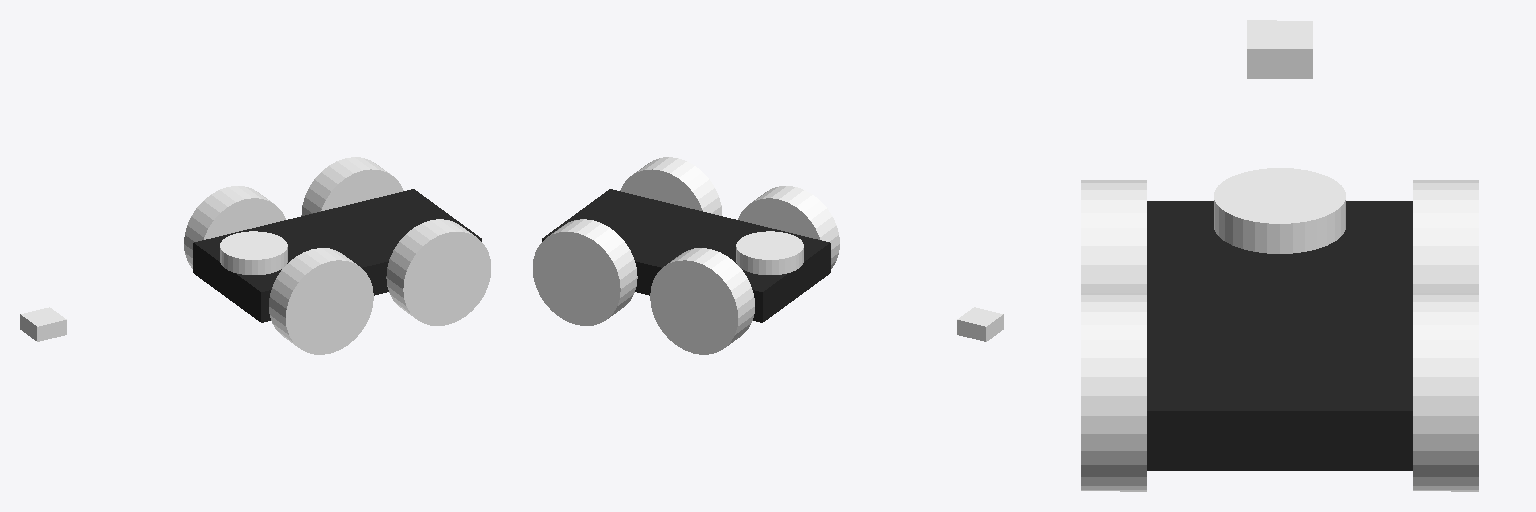
The robot description file, URDF, robot "three_wheeled_robot":
<?xml version="1.0" ?>
<!-- Define the robot model and name it "three_wheeled_robot" -->
<robot name="three_wheeled_robot">
    <link name="base_footprint"/>

    <!-- Define the base link of the robot -->
    <link name="base">
        <!-- Visual properties of the base link -->
        <visual>
            <geometry>
                <!-- The base is represented as a box with the specified dimensions -->
                <box size="0.75 0.4 0.1"/>
            </geometry>
            <material name="gray">
                <!-- Set the color of the base to gray -->
                <color rgba=".2 .2 .2 1" />
            </material>
        </visual>
        <!-- Inertial properties of the base link -->
        <inertial>
            <!-- Mass of the base link -->
            <mass value="1" />
            <!-- Inertia tensor of the base link -->
            <inertia ixx="0.01" ixy="0.0" ixz="0" iyy="0.01" iyz="0" izz="0.01" />
        </inertial>

        
        <!-- Collision properties of the base link -->
        <collision>
            <geometry>
                <!-- The collision shape is the same as the visual shape -->
                <box size="0.75 0.4 0.1"/>
            </geometry>
        </collision>
    </link>

     
    <!-- Define the right wheel link of the robot -->
    <link name="wheel_back_right_link">
        <!-- Inertial properties of the right wheel -->
        <inertial>
            <!-- Mass of the right wheel -->
            <mass value="2" />
            <!-- Inertia tensor of the right wheel -->
            <inertia ixx="0.01" ixy="0.0" ixz="0" iyy="0.01" iyz="0" izz="0.01" />
        </inertial>
     

        <!-- Visual properties of the right wheel -->
        <visual>
            <geometry>
                <!-- The right wheel is represented as a cylinder with the specified radius and length -->
                <cylinder radius="0.15" length="0.1"/>
            </geometry>
            <material name="white">
                <!-- Set the color of the right wheel to white -->
                <color rgba="1 1 1 1"/>
            </material>
        </visual>
        <!-- Collision properties of the right wheel -->
        <collision>
            <geometry>
                <!-- The collision shape is the same as the visual shape -->
                <cylinder radius="0.15" length="0.1"/>
            </geometry>
            <contact_coefficients mu="1" kp="1e+13" kd="1.0"/>
        </collision>
    </link>

    <joint name="footprint_joint" type="fixed">
        <!-- Origin of the joint in relation to the parent link (base) -->
        <origin xyz="0.0 0.0 0.0" rpy="0.0 0.0 0.0"/>
        <!-- The parent link of this joint -->
        <parent link="base_footprint"/>
        <!-- The child link of this joint -->
        <child link="base"/>
        <!-- The axis of rotation for the joint -->
        <axis xyz="0.0 0.0 1.0"/>
    </joint>
       
    <!-- Define the joint for the right wheel -->
    <joint name="wheel_back_right_joint" type="continuous">
        <!-- Origin of the joint in relation to the parent link (base) -->
        <origin xyz="0.2 0.25 0.0" rpy="1.57 0.0 0.0"/>
        <!-- The parent link of this joint -->
        <parent link="base"/>
        <!-- The child link of this joint -->
        <child link="wheel_back_right_link"/>
        <!-- The axis of rotation for the joint -->
        <axis xyz="0.0 0.0 1.0"/>
    </joint>

    <!-- Define the left wheel link of the robot -->
    <link name="wheel_back_left_link">
        <!-- Inertial properties of the left wheel -->
        <inertial>
            <!-- Mass of the left wheel -->
            <mass value="2" />
            <!-- Inertia tensor of the left wheel -->
            <inertia ixx="0.01" ixy="0.0" ixz="0" iyy="0.01" iyz="0" izz="0.01" />
        </inertial>
        <!-- Visual properties of the left wheel -->
        <visual>
            <geometry>
                <!-- The left wheel is represented as a cylinder with the specified radius and length -->
                <cylinder radius="0.15" length="0.1"/>
            </geometry>
            <material name="white">
                <!-- Set the color of the left wheel to white -->
                <color rgba="1 1 1 1"/>
            </material>
        </visual>
        <!-- Collision properties of the left wheel -->
        <collision>
            <geometry>
                <!-- The collision shape is the same as the visual shape -->
                <cylinder radius="0.15" length="0.1"/>
            </geometry>
            <contact_coefficients mu="1" kp="1e+13" kd="1.0"/>
        </collision>
    </link>

    <!-- Define the joint for the left wheel -->
    <joint name="wheel_back_left_joint" type="continuous">
        <!-- Origin of the joint in relation to the parent link (base) -->
        <origin xyz="0.2 -0.25 0.0" rpy="1.57 0.0 0.0"/>
        <!-- The parent link of this joint -->
        <parent link="base"/>
        <!-- The child link of this joint -->
        <child link="wheel_back_left_link"/>
        <!-- The axis of rotation for the joint -->
        <axis xyz="0.0 0.0 1.0"/>
    </joint>

    <link name="wheel_front_right_link">
        <!-- Inertial properties of the right wheel -->
        <inertial>
            <!-- Mass of the right wheel -->
            <mass value="2" />
            <!-- Inertia tensor of the right wheel -->
            <inertia ixx="0.01" ixy="0.0" ixz="0" iyy="0.01" iyz="0" izz="0.01" />
        </inertial>
     

        <!-- Visual properties of the right wheel -->
        <visual>
            <geometry>
                <!-- The right wheel is represented as a cylinder with the specified radius and length -->
                <cylinder radius="0.15" length="0.1"/>
            </geometry>
            <material name="white">
                <!-- Set the color of the right wheel to white -->
                <color rgba="1 1 1 1"/>
            </material>
        </visual>
        <!-- Collision properties of the right wheel -->
        <collision>
            <geometry>
                <!-- The collision shape is the same as the visual shape -->
                <cylinder radius="0.15" length="0.1"/>
            </geometry>
            <contact_coefficients mu="1" kp="1e+13" kd="1.0"/>
        </collision>
    </link>
    <joint name="wheel_front_right_joint" type="continuous">
        <!-- Origin of the joint in relation to the parent link (base) -->
        <origin xyz="-0.2 0.25 0.0" rpy="1.57 0.0 0.0"/>
        <!-- The parent link of this joint -->
        <parent link="base"/>
        <!-- The child link of this joint -->
        <child link="wheel_front_right_link"/>
        <!-- The axis of rotation for the joint -->
        <axis xyz="0.0 0.0 1.0"/>
    </joint>

    <link name="wheel_front_left_link">
        <!-- Inertial properties of the left wheel -->
        <inertial>
            <!-- Mass of the left wheel -->
            <mass value="2" />
            <!-- Inertia tensor of the left wheel -->
            <inertia ixx="0.01" ixy="0.0" ixz="0" iyy="0.01" iyz="0" izz="0.01" />
        </inertial>
        <!-- Visual properties of the left wheel -->
        <visual>
            <geometry>
                <!-- The left wheel is represented as a cylinder with the specified radius and length -->
                <cylinder radius="0.15" length="0.1"/>
            </geometry>
            <material name="white">
                <!-- Set the color of the left wheel to white -->
                <color rgba="1 1 1 1"/>
            </material>
        </visual>
        <!-- Collision properties of the left wheel -->
        <collision>
            <geometry>
                <!-- The collision shape is the same as the visual shape -->
                <cylinder radius="0.15" length="0.1"/>
            </geometry>
            <contact_coefficients mu="1" kp="1e+13" kd="1.0"/>
        </collision>
    </link>

    <joint name="wheel_front_left_joint" type="continuous">
        <!-- Origin of the joint in relation to the parent link (base) -->
        <origin xyz="-0.2 -0.25 0.0" rpy="1.57 0.0 0.0"/>
        <!-- The parent link of this joint -->
        <parent link="base"/>
        <!-- The child link of this joint -->
        <child link="wheel_front_left_link"/>
        <!-- The axis of rotation for the joint -->
        <axis xyz="0.0 0.0 1.0"/>
    </joint>

 
    <!-- Define the camera link of the robot -->
    <link name="camera">
        <!-- Inertial properties of the camera -->
        <inertial>
            <!-- Mass of the camera -->
            <mass value="0.1" />
            <!-- Inertia tensor of the camera -->
            <inertia ixx="0.01" ixy="0.0" ixz="0" iyy="0.01" iyz="0" izz="0.01" />
        </inertial>
        <!-- Visual properties of the camera -->
        <visual>
            <geometry>
                <!-- The camera is represented as a box with the specified dimensions -->
                <box size="0.1 0.1 0.05"/>
            </geometry>
            <material name="white">
                <!-- Set the color of the camera to white -->
                <color rgba="1 1 1 1"/>
            </material>
        </visual>
        <!-- Collision properties of the camera -->
        <collision>
            <geometry>
                <!-- The collision shape is the same as the visual shape -->
                <box size="0.1 0.1 0.05"/>
            </geometry>
        </collision>
    </link>

    <!-- Define the joint for the camera -->
    <joint name="camera_joint" type="fixed">
        <!-- Origin of the joint in relation to the parent link (base) -->
        <origin xyz="-1.0 0 0.01" rpy="0 0.0 3.14"/>
        <!-- The parent link of this joint -->
        <parent link="base"/>
        <!-- The child link of this joint -->
        <child link="camera"/>
        <!-- The axis of rotation for the joint -->
        <axis xyz="0.0 0.0 1.0"/>
    </joint>

    <!-- Define the lidar link of the robot -->
    <link name="lidar">
        <!-- Inertial properties of the lidar -->
        <inertial>
            <!-- Mass of the lidar -->
            <mass value="0.5" />
            <!-- Inertia tensor of the lidar -->
            <inertia ixx="0.01" ixy="0.0" ixz="0" iyy="0.01" iyz="0" izz="0.01" />
        </inertial>
        <!-- Visual properties of the lidar -->
        <visual>
            <geometry>
                <!-- The lidar is represented as a cylinder with the specified radius and length -->
                <cylinder radius="0.1" length="0.05"/>
            </geometry>
            <material name="white">
                <!-- Set the color of the lidar to white -->
                <color rgba="1 1 1 1"/>
            </material>
        </visual>
        <!-- Collision properties of the lidar -->
        <collision>
            <geometry>
                <!-- The collision shape is a box with the specified dimensions -->
                <box size="0.1 0.1 0.1"/>
            </geometry>
        </collision>
    </link>

    <!-- Define the joint for the lidar -->
    <joint name="lidar_joint" type="fixed">
        <!-- Origin of the joint in relation to the parent link (base) -->
        <origin xyz="-0.285 0 0.075" rpy="0 0.0 1.57"/>
        <!-- The parent link of this joint -->
        <parent link="base"/>
        <!-- The child link of this joint -->
        <child link="lidar"/>
        <!-- The axis of rotation for the joint -->
        <axis xyz="0.0 0.0 1.0"/>
    </joint>

    <!-- Define Gazebo-specific properties for the base link -->
    <gazebo reference="base">
        <!-- Set the material of the base link in Gazebo -->
        <material>Gazebo/WhiteGlow</material>
    </gazebo>

    <!-- Define Gazebo-specific properties for the left wheel link -->
    <gazebo reference="wheel_back_left_link">
        <!-- Set the material of the left wheel link in Gazebo -->
        <material>Gazebo/SkyBlue</material>
    </gazebo>

    <!-- Define Gazebo-specific properties for the right wheel link -->
    <gazebo reference="wheel_back_right_link">
        <!-- Set the material of the right wheel link in Gazebo -->
        <material>Gazebo/SkyBlue</material>
    </gazebo>



    <gazebo reference="wheel_front_right_link">
        <!-- Set the material of the right wheel link in Gazebo -->
        <material>Gazebo/SkyBlue</material>
    </gazebo>


    <gazebo reference="wheel_front_left_link">
        <!-- Set the material of the right wheel link in Gazebo -->
        <material>Gazebo/SkyBlue</material>
    </gazebo>

    <!-- Define Gazebo-specific properties for the caster -->
    <gazebo reference="caster">
        <!-- Set the material of the caster in Gazebo -->
        <material>Gazebo/Grey</material>
    </gazebo>

    <!-- Define Gazebo-specific properties for the lidar -->
    <gazebo reference="lidar">
        <!-- Set the material of the lidar in Gazebo -->
        <material>Gazebo/Blue</material>
    </gazebo>

    <!-- Define Gazebo-specific properties for the camera -->
    <gazebo reference="camera">
        <!-- Set the material of the camera in Gazebo -->
        <material>Gazebo/Red</material>
    </gazebo>

    <!-- Define the Gazebo plugin for differential drive control -->
    <gazebo>
        <plugin filename="libgazebo_ros_diff_drive.so" name="gazebo_base_controller">
            <!-- Odometry frame for the plugin -->
            <odometry_frame>odom</odometry_frame>
            <!-- Command topic for velocity commands -->
            <commandTopic>cmd_vel</commandTopic>
            <!-- Publish odometry data -->
            <publish_odom>true</publish_odom>
            <!-- Publish odometry transform -->
            <publish_odom_tf>true</publish_odom_tf>
            <!-- Update rate for the plugin -->
            <update_rate>15.0</update_rate>
            <!-- Left wheel joint name -->
            <left_joint>wheel_left_joint</left_joint>
            <!-- Right wheel joint name -->
            <right_joint>wheel_right_joint</right_joint>
            <!-- Wheel separation distance -->
            <wheel_separation>0.5</wheel_separation>
            <!-- Wheel diameter -->
            <wheel_diameter>0.3</wheel_diameter>
            <!-- Maximum wheel acceleration -->
            <max_wheel_acceleration>0.7</max_wheel_acceleration>
            <!-- Maximum wheel torque -->
            <max_wheel_torque>8</max_wheel_torque>
            <!-- Base frame of the robot -->
            <robotBaseFrame>base</robotBaseFrame>
        </plugin>
    </gazebo>

    <!-- Define the Gazebo plugin for the camera -->
    <gazebo reference="camera">
        <!-- Define the camera sensor -->
        <sensor type="camera" name="camera1">
            <!-- Visualize the camera output in Gazebo -->
            <visualize>true</visualize>
            <!-- Update rate for the camera sensor -->
            <update_rate>30.0</update_rate>
            <camera name="head">
                <!-- Horizontal field of view for the camera -->
                <horizontal_fov>1.3962634</horizontal_fov>
                <image>
                    <!-- Image width in pixels -->
                    <width>800</width>
                    <!-- Image height in pixels -->
                    <height>800</height>
                    <!-- Image format -->
                    <format>R8G8B8</format>
                </image>
                <clip>
                    <!-- Near clipping distance -->
                    <near>0.02</near>
                    <!-- Far clipping distance -->
                    <far>300</far>
                </clip>
            </camera>
            <plugin name="camera_controller" filename="libgazebo_ros_camera.so">
                <!-- Always keep the camera on -->
                <alwaysOn>true</alwaysOn>
                <!-- Update rate for the camera controller -->
                <updateRate>60.0</updateRate>
                <!-- Camera name for the controller -->
                <cameraName>/camera1</cameraName>
                <!-- Image topic name -->
                <imageTopicName>image_raw</imageTopicName>
                <!-- Camera info topic name -->
                <cameraInfoTopicName>info_camera</cameraInfoTopicName>
                <!-- Frame name for the camera -->
                <frameName>camera</frameName>
                <!-- Baseline for stereo camera setup (not used here) -->
                <hackBaseline>0.07</hackBaseline>
            </plugin>
        </sensor>
    </gazebo>

    <!-- Define the Gazebo plugin for the lidar -->
    <gazebo reference="lidar">
        <!-- Define the lidar sensor -->
        <sensor name="lidar" type="ray">
            <!-- Visualize the lidar output in Gazebo -->
            <visualize>true</visualize>
            <!-- Update rate for the lidar sensor -->
            <update_rate>12.0</update_rate>
            <plugin filename="libgazebo_ros_ray_sensor.so" name="gazebo_lidar">
                <!-- Output type for the lidar sensor -->
                <output_type>sensor_msgs/LaserScan</output_type>
                <!-- Frame name for the lidar sensor -->
                <frame_name>lidar</frame_name>
            </plugin>
            <ray>
                <scan>
                    <horizontal>
                        <!-- Number of samples for the lidar scan -->
                        <samples>360</samples>
                        <!-- Resolution of the lidar scan -->
                        <resolution>1</resolution>
                        <!-- Minimum angle for the lidar scan -->
                        <min_angle>0.00</min_angle>
                        <!-- Maximum angle for the lidar scan -->
                        <max_angle>3.14</max_angle>
                    </horizontal>
                </scan>
                <range>
                    <!-- Minimum range for the lidar sensor -->
                    <min>0.120</min>
                    <!-- Maximum range for the lidar sensor -->
                    <max>3.5</max>
                    <!-- Resolution of the lidar range -->
                    <resolution>0.015</resolution>
                </range>
            </ray>
        </sensor>
    </gazebo>

</robot>

--- Render facts (derived) ---
The picture shows the robot from 3 angles, left to right: view 1: azimuth 30°, elevation 25°; view 2: azimuth 150°, elevation 25°; view 3: azimuth 270°, elevation 25°; orthographic projection.
Model three_wheeled_robot with 8 links and 7 joints (4 continuous, 3 fixed), rooted at base_footprint, posed every joint at zero.
Visible links, largest first — view 1: base, wheel_front_left_link, wheel_back_left_link, wheel_front_right_link, wheel_back_right_link, lidar, camera; view 2: base, wheel_front_right_link, wheel_back_right_link, wheel_front_left_link, wheel_back_left_link, lidar, camera; view 3: base, wheel_back_right_link, wheel_back_left_link, lidar, wheel_front_right_link, wheel_front_left_link, camera.
Link boxes in pixels (x1,y1,x2,y2): base: (193, 189, 481, 322); wheel_front_left_link: (269, 248, 373, 354); wheel_back_left_link: (386, 219, 490, 325); wheel_front_right_link: (184, 186, 285, 268); wheel_back_right_link: (301, 157, 403, 215); lidar: (220, 231, 287, 274); camera: (20, 307, 66, 341); base: (542, 189, 830, 322); wheel_front_right_link: (650, 248, 754, 354); wheel_back_right_link: (533, 219, 637, 325); wheel_front_left_link: (738, 186, 839, 268); wheel_back_left_link: (620, 157, 721, 215); lidar: (736, 231, 803, 274); camera: (957, 307, 1003, 341); base: (1147, 201, 1412, 470); wheel_back_right_link: (1413, 293, 1478, 491); wheel_back_left_link: (1081, 293, 1146, 491); lidar: (1214, 168, 1345, 253); wheel_front_right_link: (1413, 180, 1478, 292); wheel_front_left_link: (1081, 180, 1146, 292); camera: (1247, 20, 1312, 78).
Size in the robot's own frame: 1.43 by 0.6002 by 0.3001 metres.
Geometry: primitives only (box / cylinder / sphere), no mesh files.
